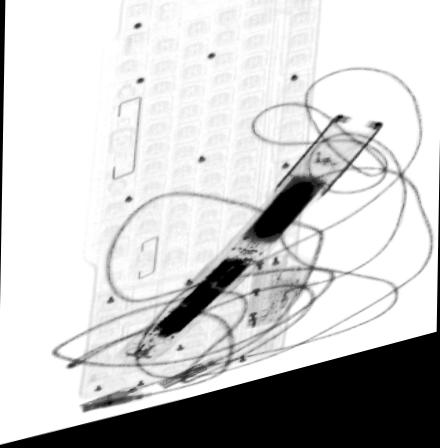Baton: (111, 127, 387, 375)
